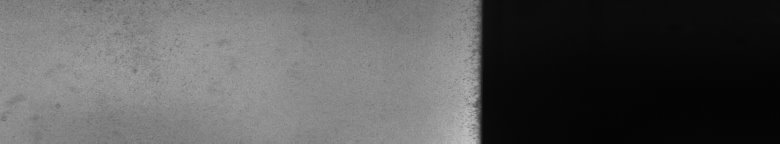ib: (55, 8, 137, 108)
